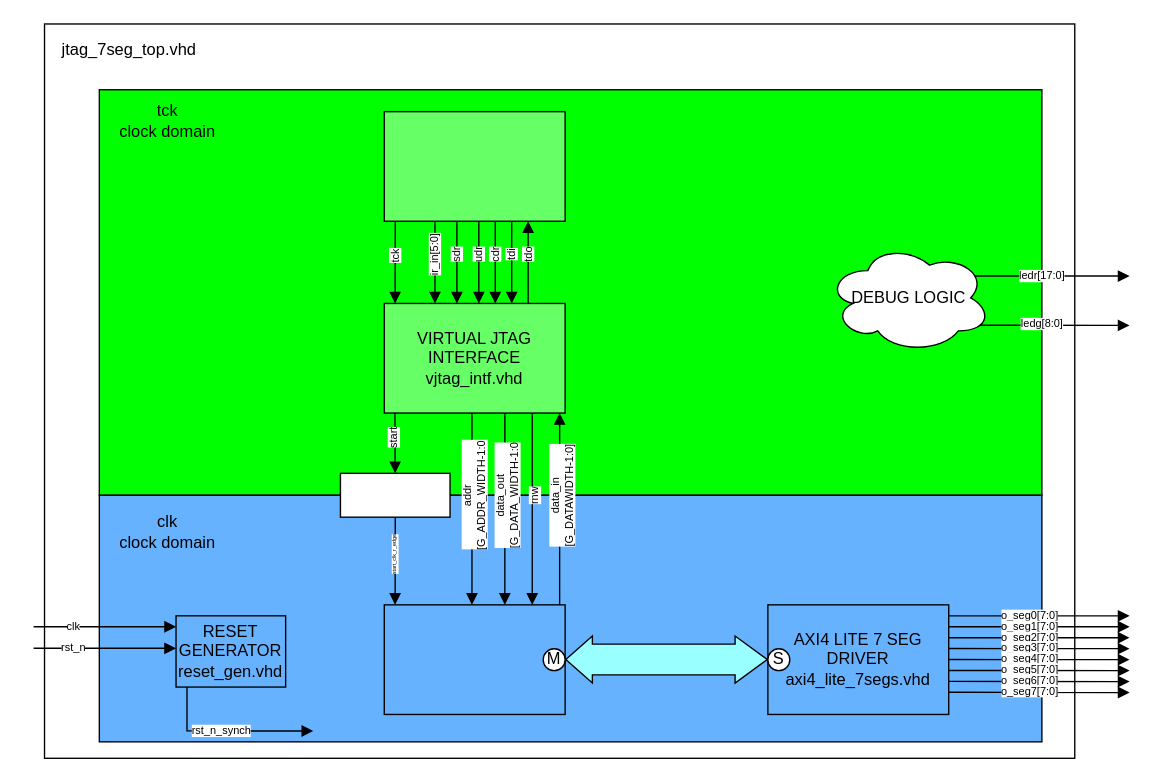
Some shapes in this 1165 by 782 pixel diagram are drawn without their labels. Here are the shapes that lost their labels. From the top down, the box of each, then its label:
(383, 110, 565, 221): ALTERA VIRTUAL JTAG altera_vjag.vhd
(339, 472, 450, 517): double resynchronization rising edge detection
(383, 603, 565, 714): AXI4 LITE MASTER axi4_lite_master.vhd
